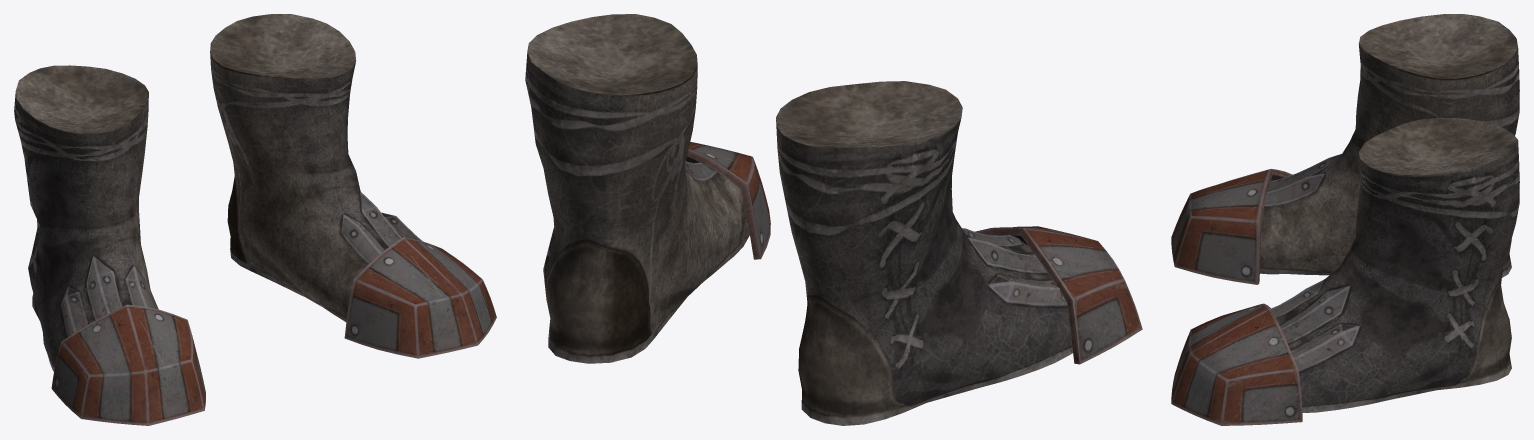
File: sk_dwarf_iron_boots_med_c1.fbx
3 views of the same model, side by side, from view 1: azimuth 30°, elevation 25°; view 2: azimuth 150°, elevation 25°; view 3: azimuth 270°, elevation 25° (orthographic). The views are drawn at different scales.
Visible parts, largest first — view 1: sk_dwarf_iron_boots_med_c1; view 2: sk_dwarf_iron_boots_med_c1; view 3: sk_dwarf_iron_boots_med_c1.
Part boxes in pixels (x1=…): sk_dwarf_iron_boots_med_c1: x1=14, y1=14, x2=496, y2=425; sk_dwarf_iron_boots_med_c1: x1=525, y1=14, x2=1142, y2=425; sk_dwarf_iron_boots_med_c1: x1=1171, y1=14, x2=1519, y2=425.
Bounding box in the file's own units: 0.5801 × 0.4072 × 0.2997.
1 material, 1 textured.
